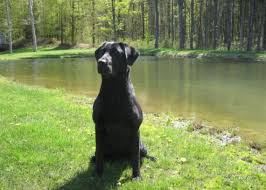dog_sitting: (90, 38, 156, 186)
